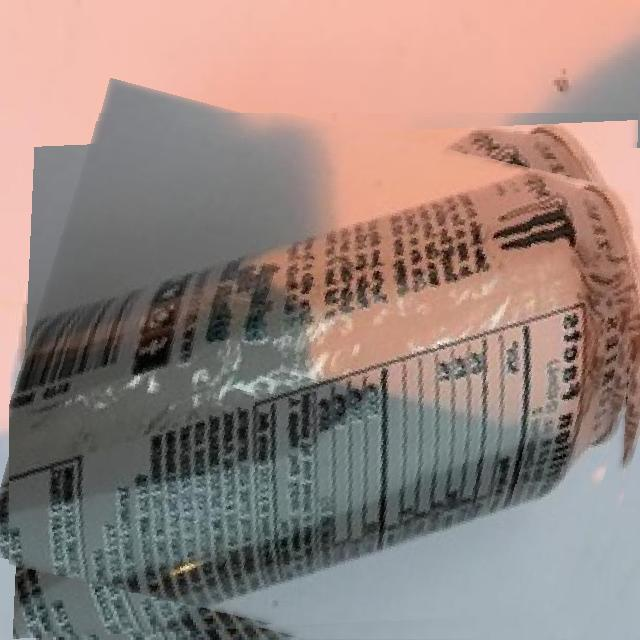recyclable: (9, 113, 640, 640)
